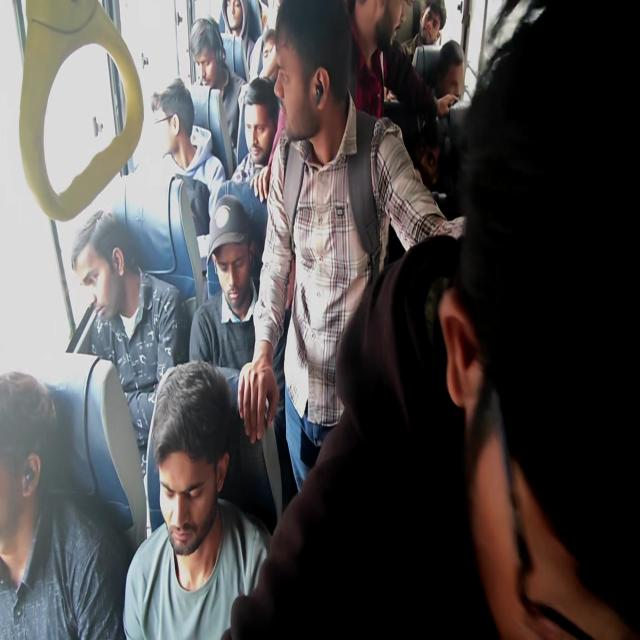person: (464, 86, 639, 640), (159, 379, 301, 639), (0, 394, 87, 582), (68, 235, 178, 318), (282, 32, 342, 136), (160, 92, 218, 179), (214, 206, 259, 302), (351, 0, 393, 67), (238, 105, 276, 161), (214, 0, 254, 38), (444, 50, 469, 109), (268, 38, 290, 99), (191, 41, 216, 92), (418, 6, 441, 39)
